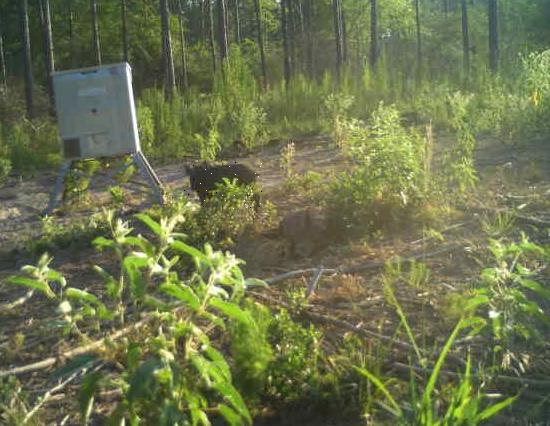Hog: (182, 159, 262, 213), (278, 207, 331, 264)
